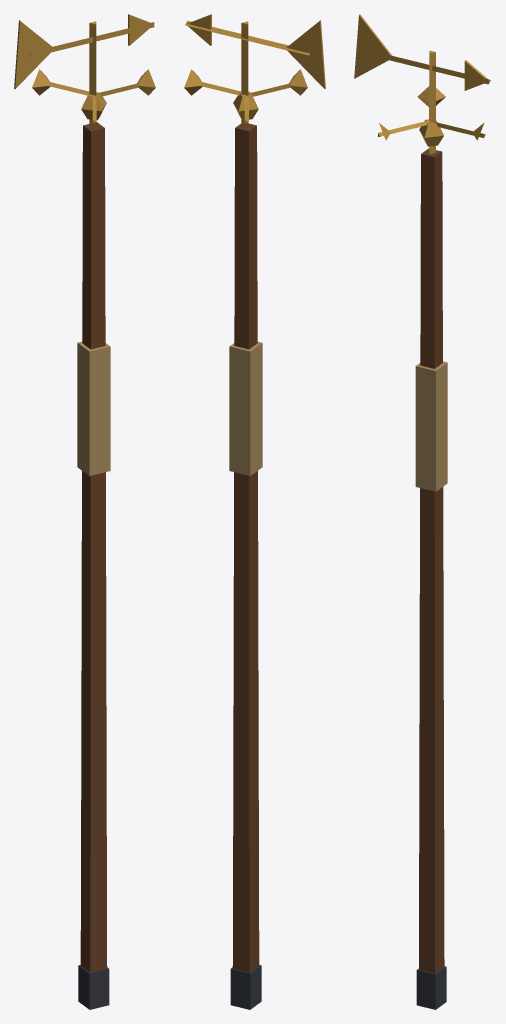
File: SM_Prop_WeatherStaff_LQ.glb
3 views of the same model, side by side, from view 1: azimuth 30°, elevation 25°; view 2: azimuth 150°, elevation 25°; view 3: azimuth 330°, elevation 25° (orthographic). The views are drawn at different scales.
Visible parts, largest first — view 1: SM_Prop_WeatherStaff_LQ; view 2: SM_Prop_WeatherStaff_LQ; view 3: SM_Prop_WeatherStaff_LQ.
Part boxes in pixels (left/top/right/bottom): SM_Prop_WeatherStaff_LQ: left=14, top=14, right=155, bottom=1009; SM_Prop_WeatherStaff_LQ: left=184, top=14, right=325, bottom=1009; SM_Prop_WeatherStaff_LQ: left=354, top=14, right=490, bottom=1009.
Bounding box in the file's own units: 0.28 × 1.93 × 0.2165.
Materials: 1 (1 with a texture image).
